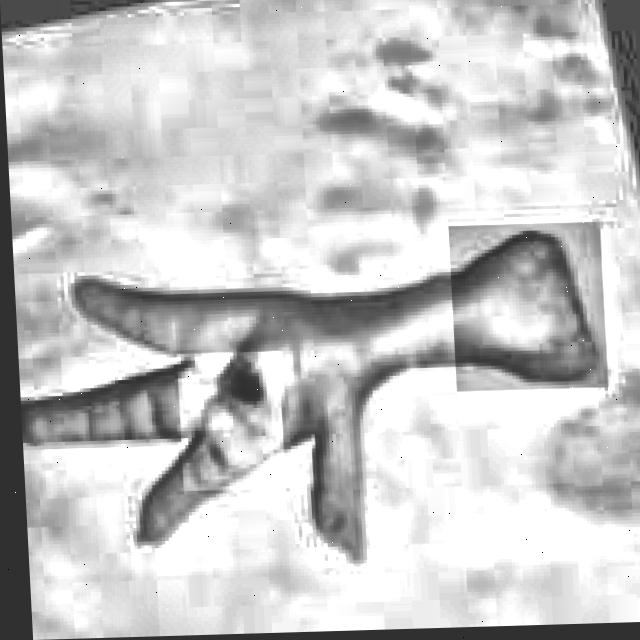Bumble foot: (10, 225, 607, 573), (223, 364, 263, 407)
